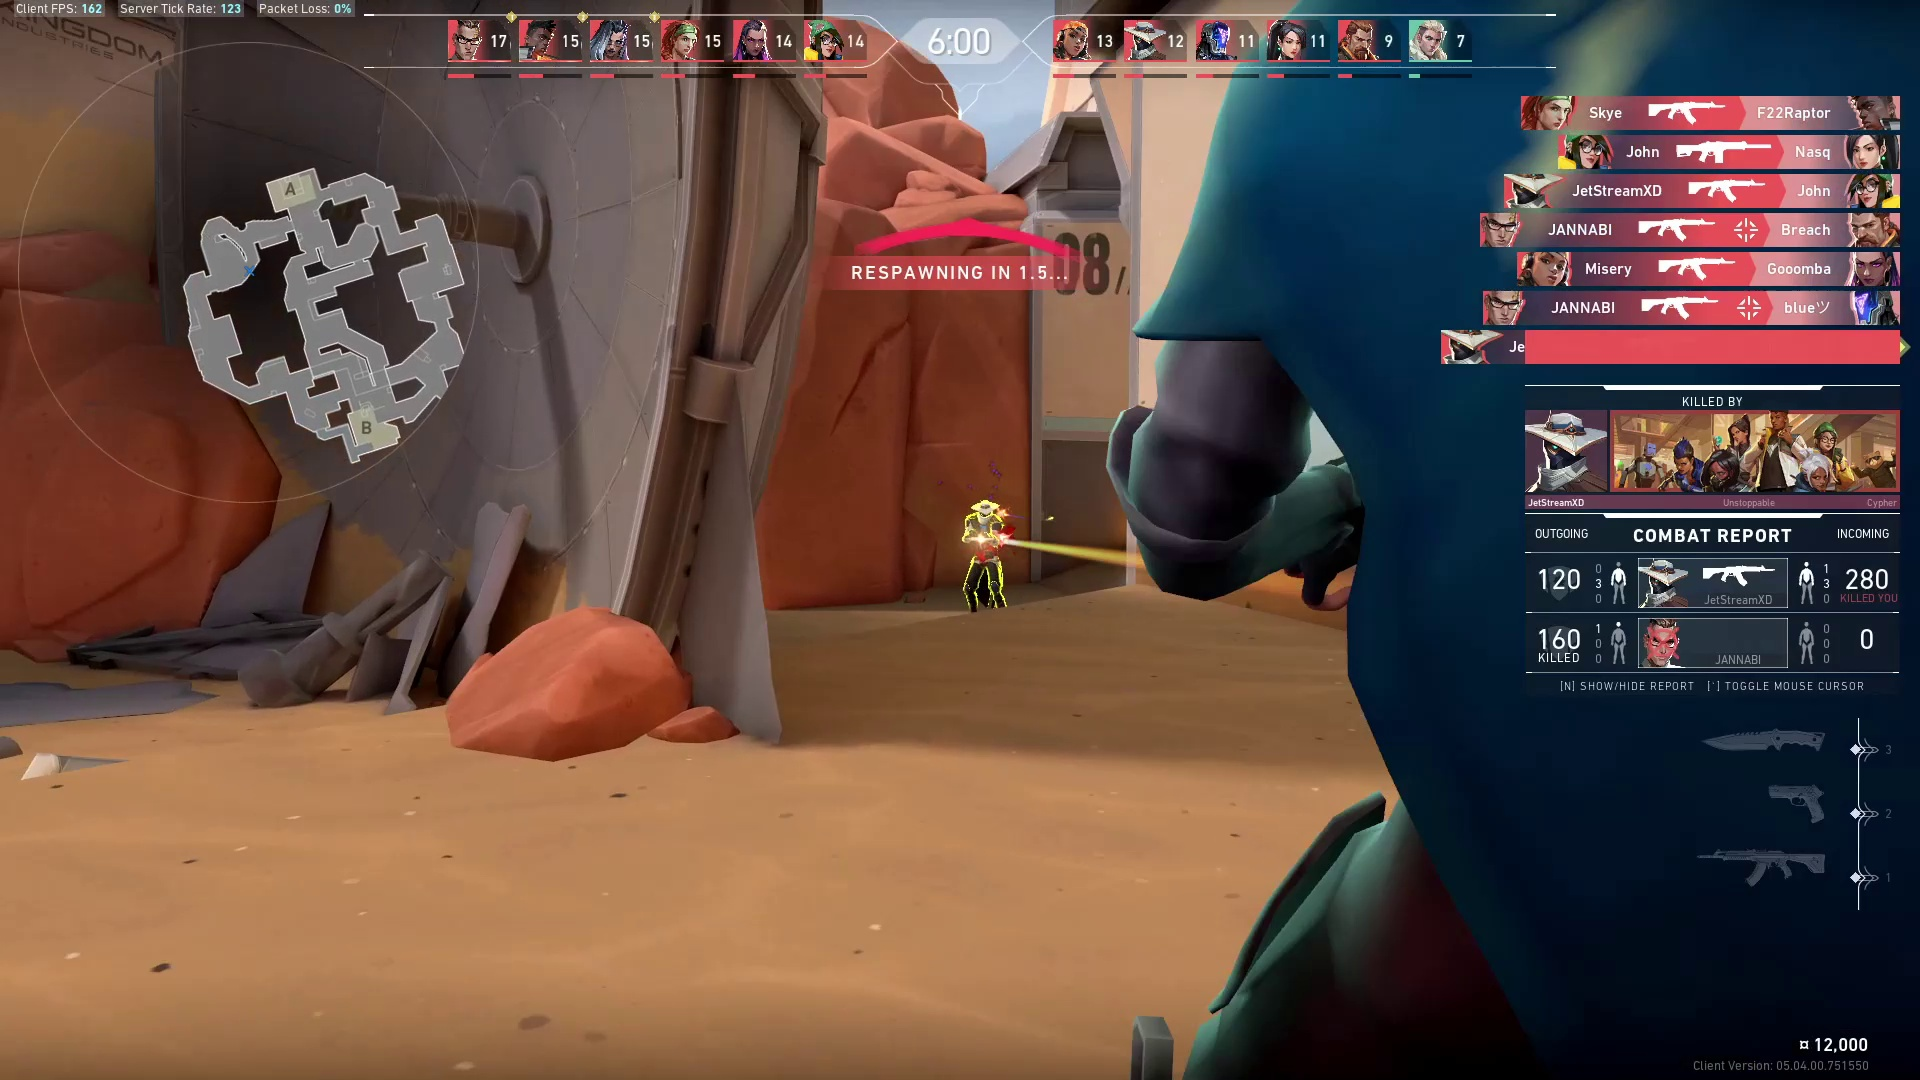enemy_body: (960, 520, 1011, 615)
enemy_head: (969, 495, 1000, 520)
